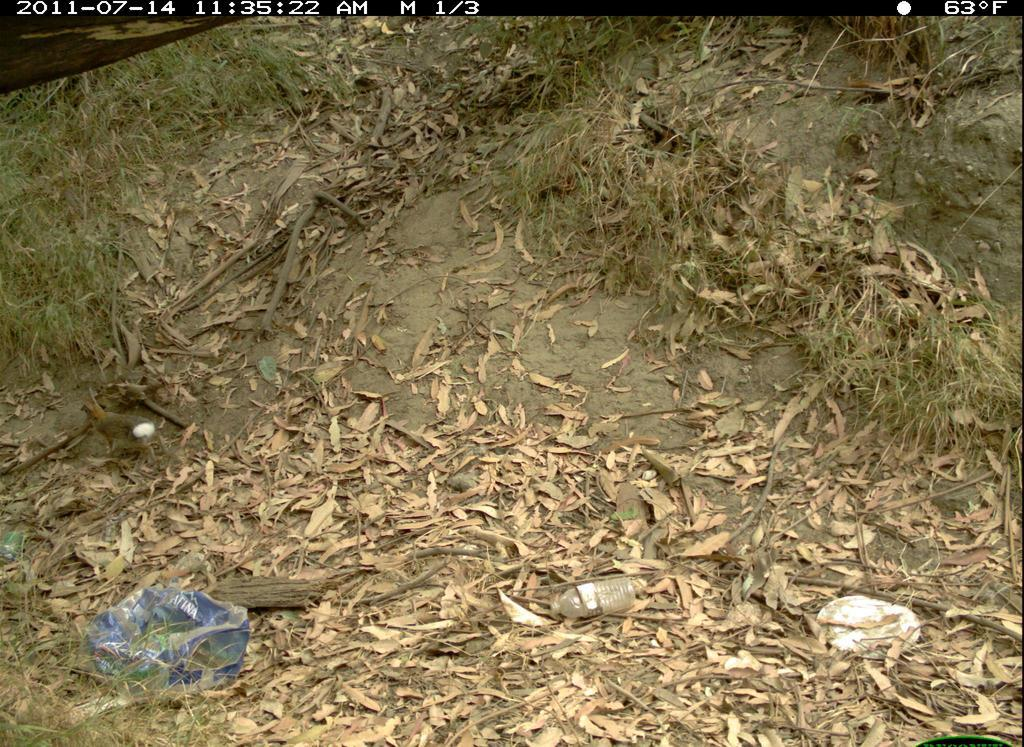rabbit: (75, 385, 175, 470)
